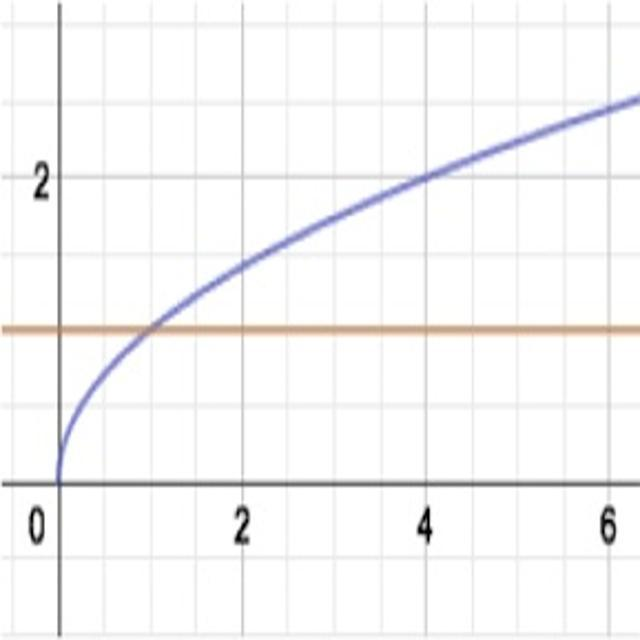axis: (1, 475, 640, 490), (53, 0, 67, 639)
line: (53, 90, 639, 483)
